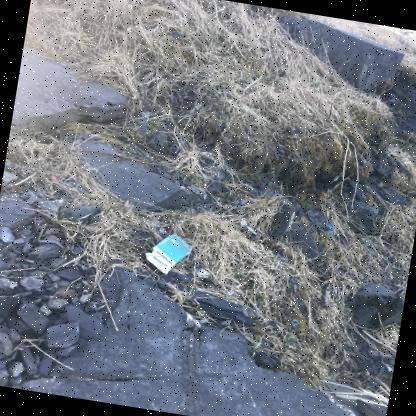Other carton: (145, 234, 192, 274)
Other plastic bottle: (50, 176, 56, 181)
Unlabeled litter: (245, 224, 256, 234), (327, 224, 333, 235), (241, 219, 246, 225), (203, 194, 206, 199)
